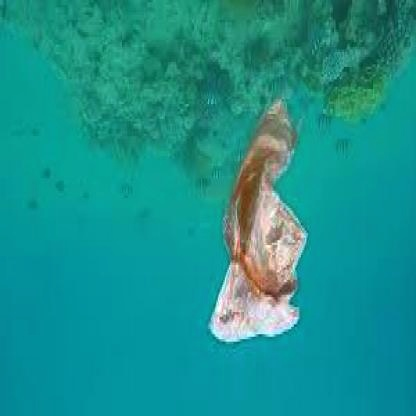pbag: (208, 97, 311, 346)
